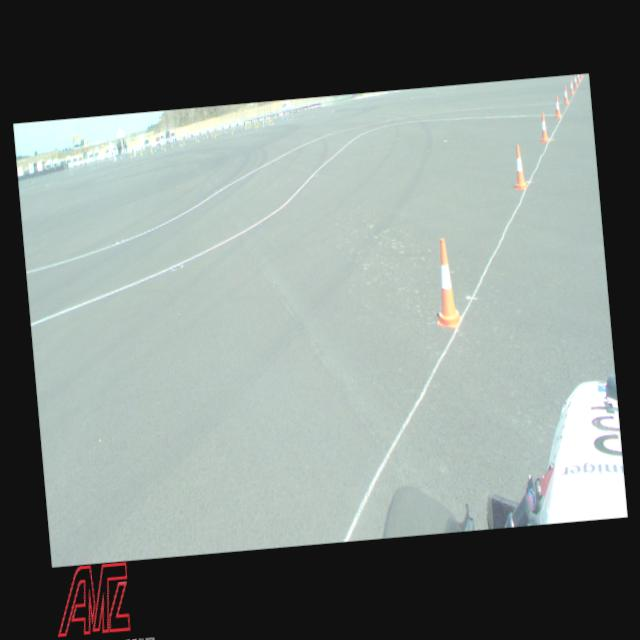orange_cone: (429, 238, 462, 328), (512, 144, 526, 189), (538, 111, 549, 142), (554, 95, 561, 118), (562, 85, 570, 104), (569, 78, 574, 94), (572, 75, 578, 86), (576, 74, 580, 81)
